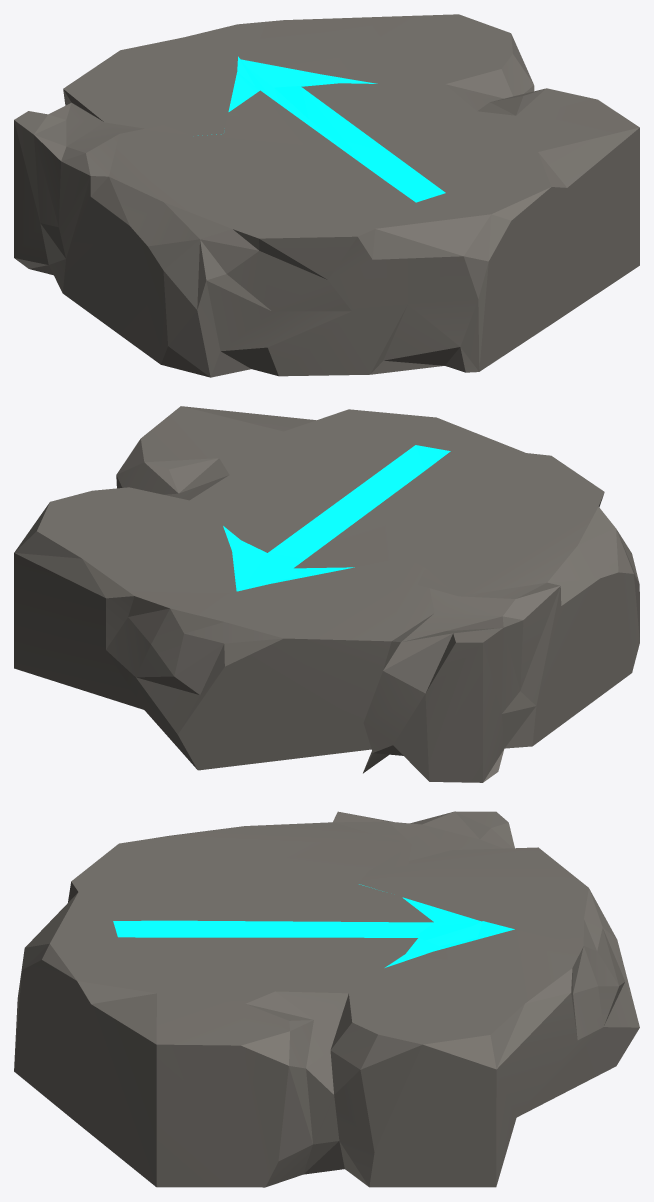
3 views of the same model, one above another, from view 1: azimuth 30°, elevation 25°; view 2: azimuth 150°, elevation 25°; view 3: azimuth 270°, elevation 25° (orthographic). The views are drawn at different scales.
Parts seen in each view (by area): view 1: Obj3d66-1649282-6-905; view 2: Obj3d66-1649282-6-905; view 3: Obj3d66-1649282-6-905.
Boxes of the visible parts, x1=… form: Obj3d66-1649282-6-905: x1=14, y1=14, x2=639, y2=377; Obj3d66-1649282-6-905: x1=14, y1=406, x2=639, y2=782; Obj3d66-1649282-6-905: x1=14, y1=811, x2=639, y2=1187.
Size of the model in its own units: 959 by 274 by 1088.
1 material, 1 textured.
